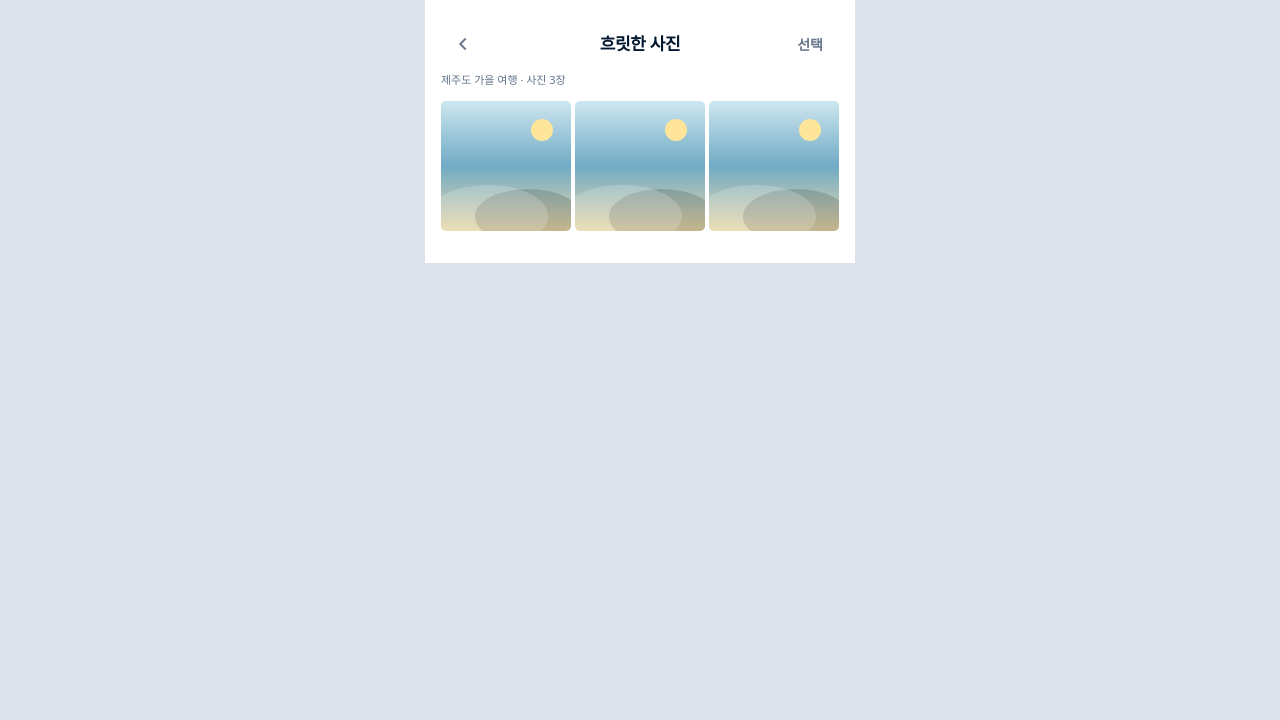
Test: UnclassifiedPhotoListPage › 삭제 확인 후 처리 중에는 확인 버튼과 하단 작업을 비활성화한다
Click the button "선택" at (810, 44), box [781,24,839,64]
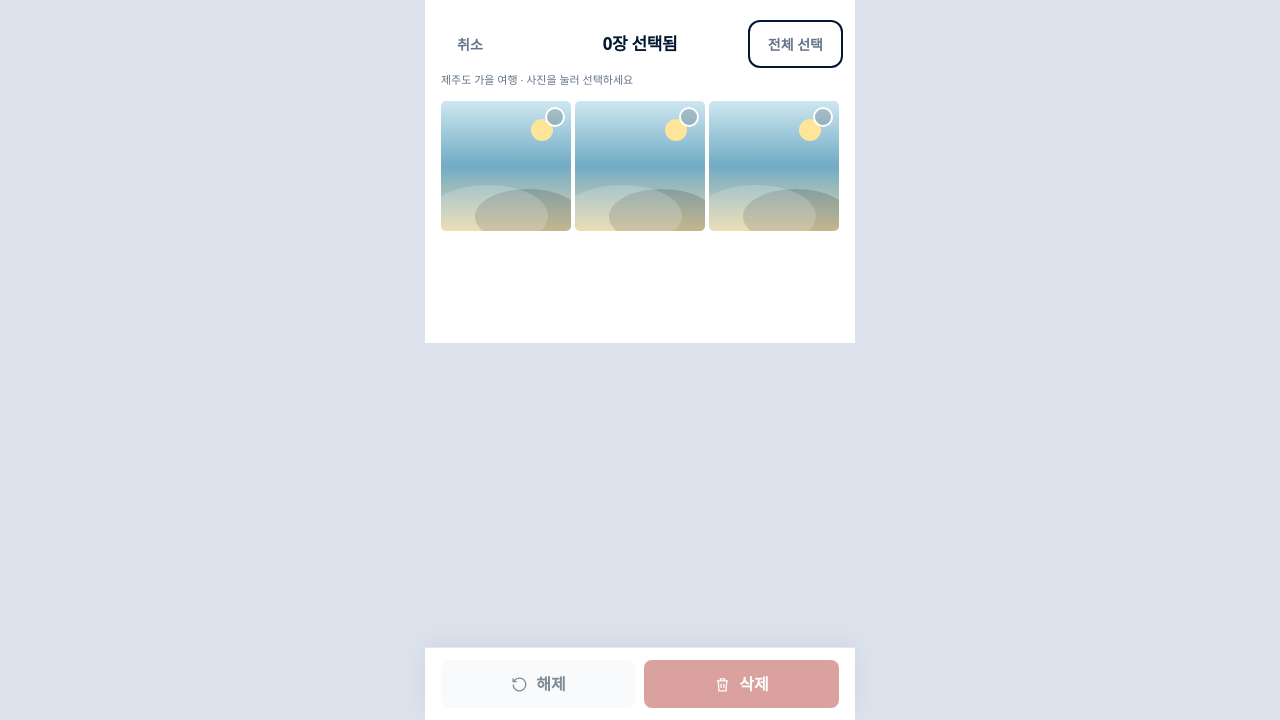
Click the button "전체 선택" at (795, 44), box [752,24,839,64]
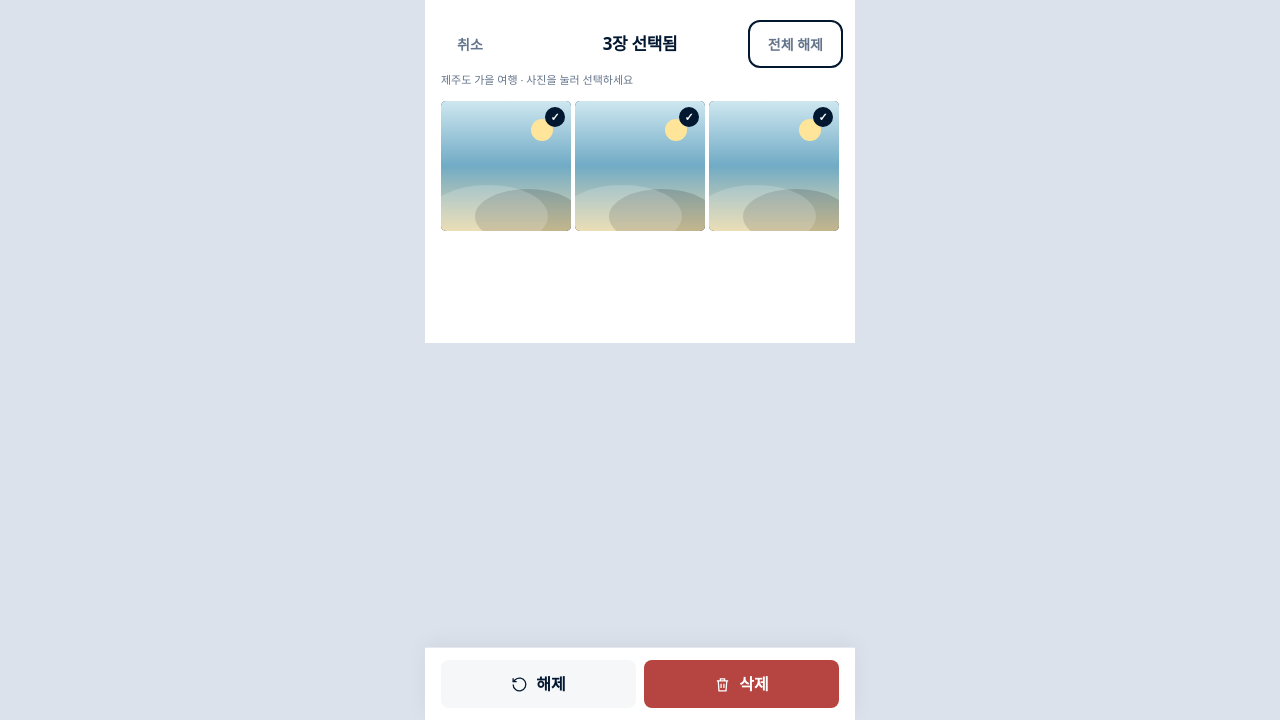
Click the button "삭제" at (742, 684), box [644,660,839,708]
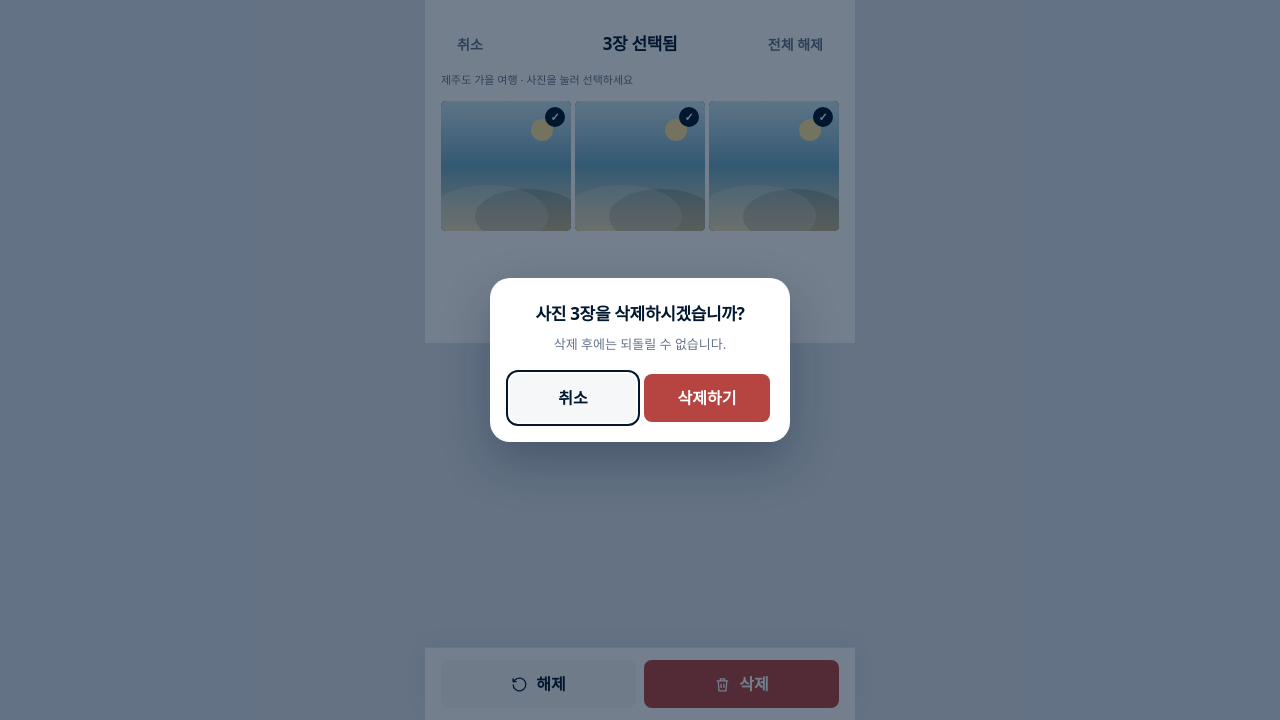
Click the button "삭제하기" at (707, 398), box [644,374,770,422]
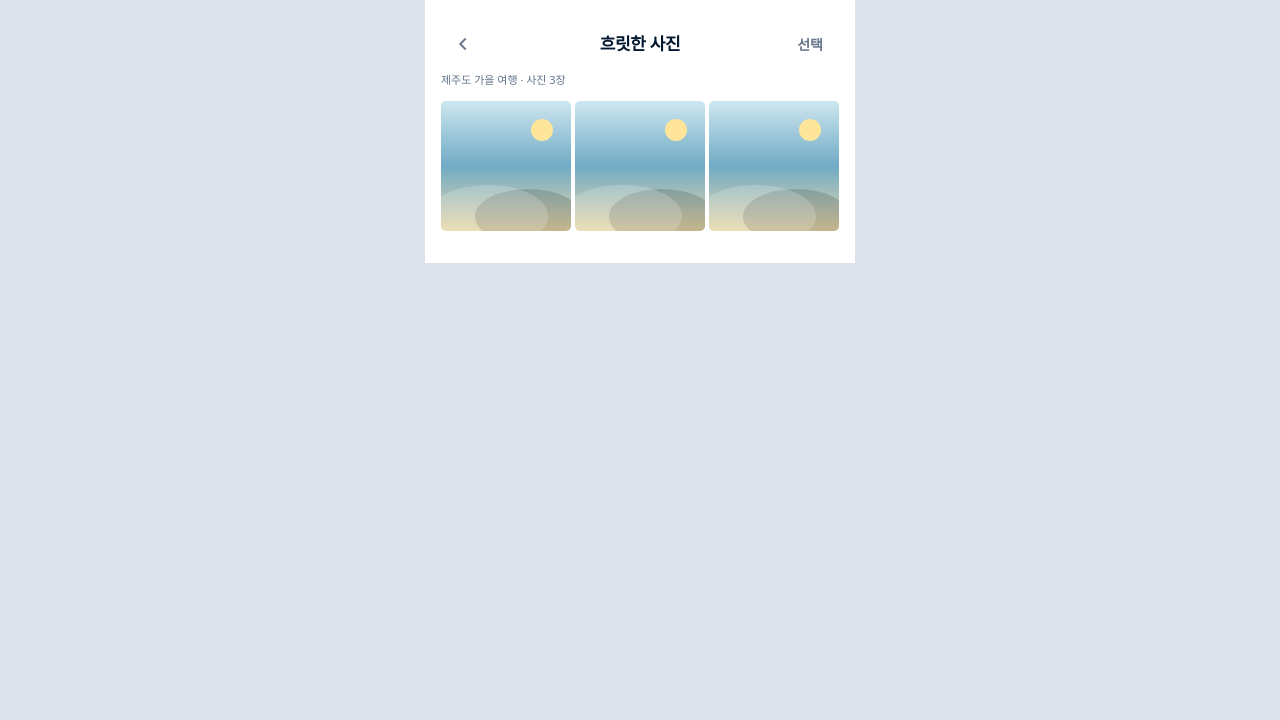
Expected: the dialog is gone
